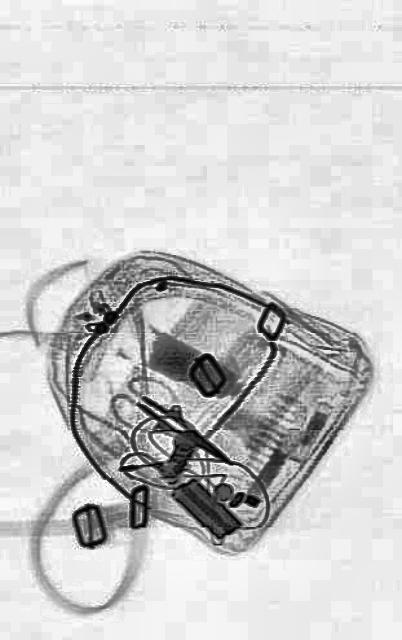Knife: (134, 380, 236, 476)
